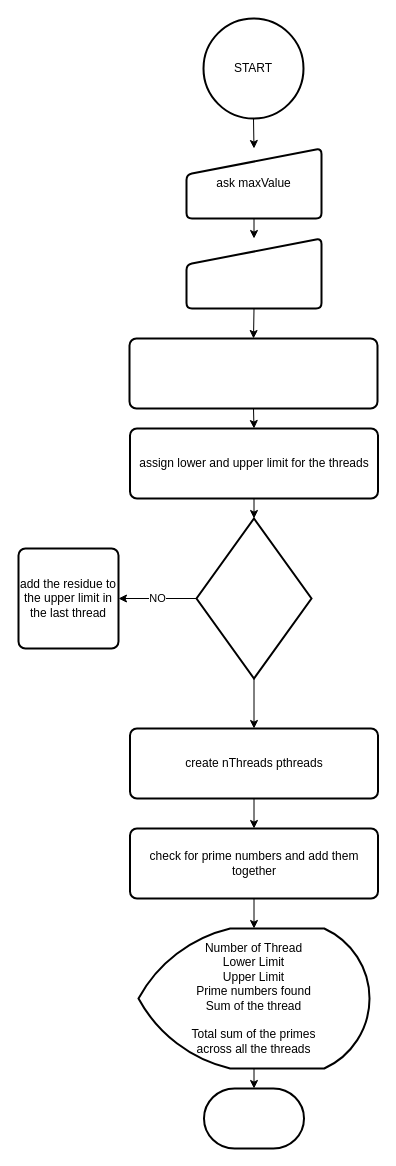
This 396x1166 diagram has some shape labels left out. Here are the shapes that lost their labels. From the top down, the centre of each, then its label:
At (x=253, y=273): "ask numberOfThreads".
At (x=253, y=373): "numsPerThread = maxValue / nThreads".
At (x=253, y=598): "Does numsPerThread cover up to the maxValue?".
At (x=253, y=1118): "END".
